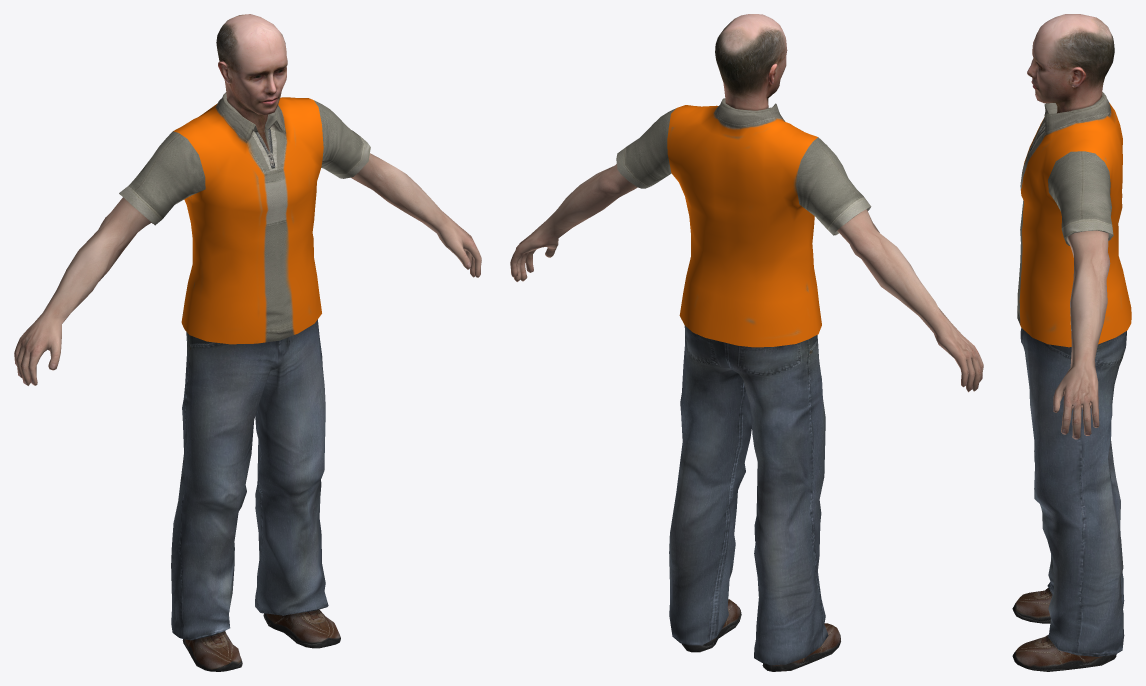
3 renders of one model, left to right at view 1: azimuth 30°, elevation 25°; view 2: azimuth 150°, elevation 25°; view 3: azimuth 270°, elevation 25°, orthographic.
Visible parts, largest first — view 1: casual24_m_highpoly; view 2: casual24_m_highpoly; view 3: casual24_m_highpoly.
Boxes of the visible parts, <box> form: casual24_m_highpoly: <box>14,14,481,671</box>; casual24_m_highpoly: <box>510,14,983,671</box>; casual24_m_highpoly: <box>1012,14,1131,671</box>.
Bounding box in the file's own units: 4040 × 5254 × 910.
1 material, 1 textured.
